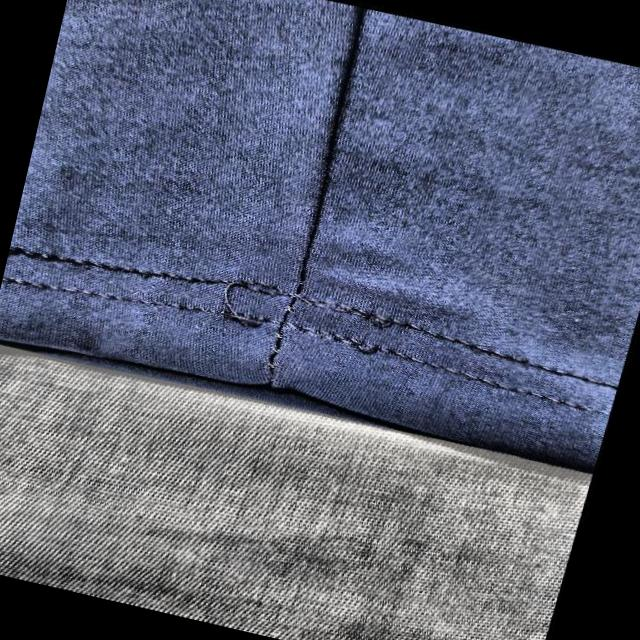Thread: (211, 267, 260, 330)
seam: (0, 224, 625, 428), (254, 1, 377, 388)
